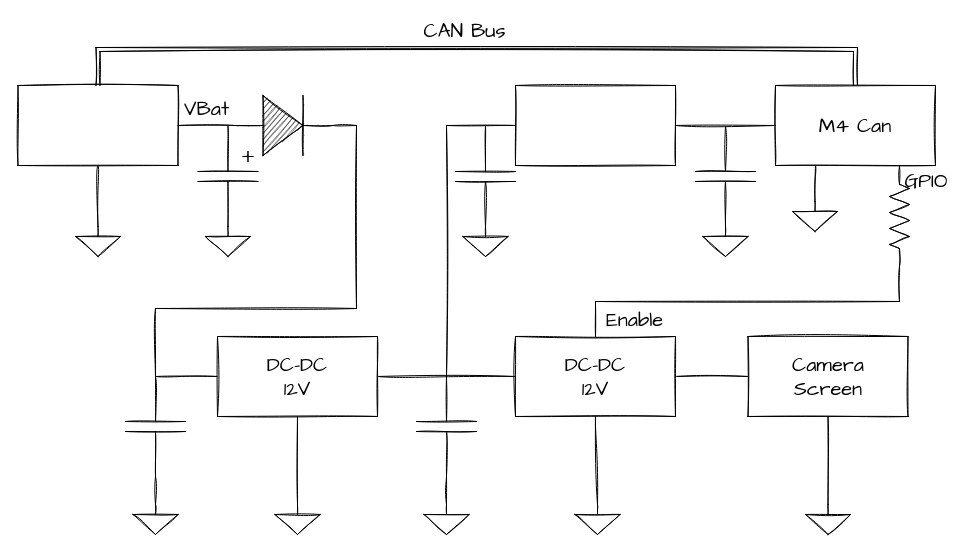
This 972x552 diagram has some shape labels left out. The centre of each missing label's shape, as x and y in pixels:
"DC-DC 3.3V" goes at (595,125).
"Vehicle OBD2" goes at (97,125).
